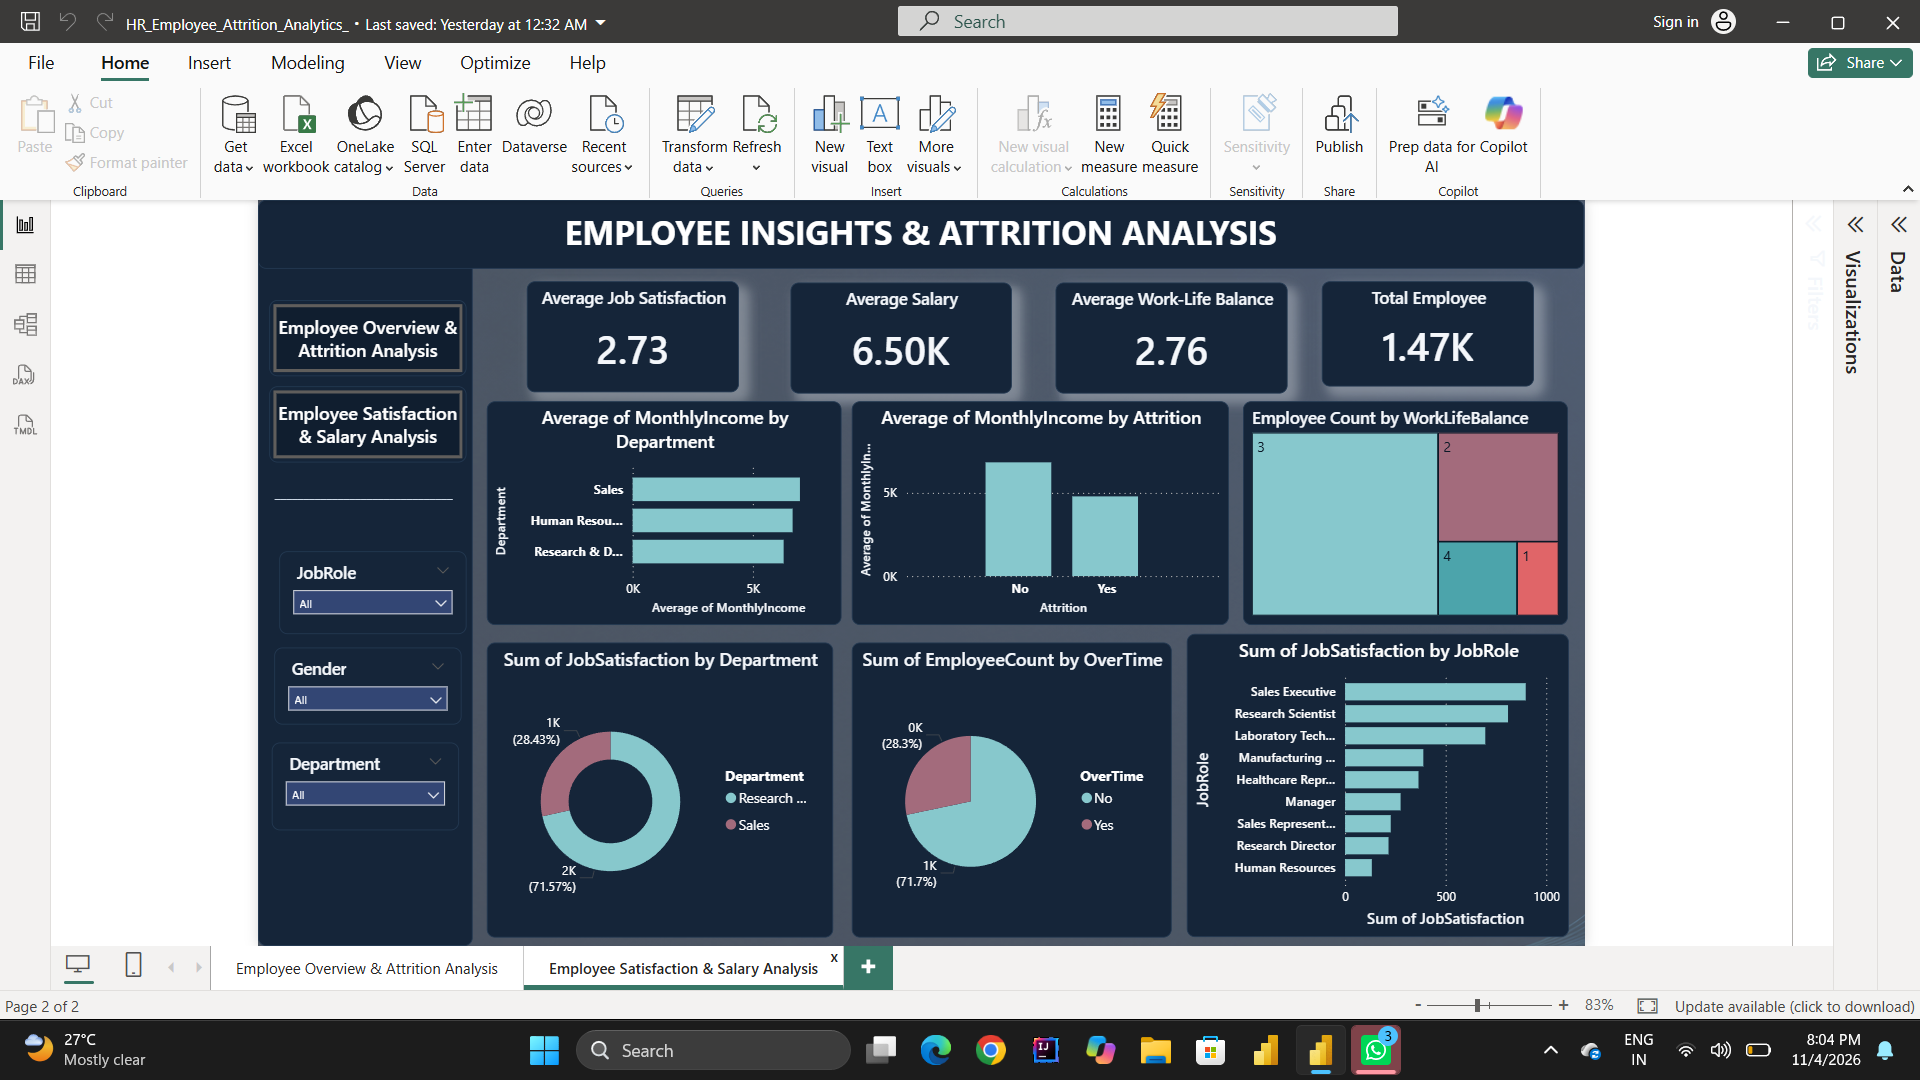

The page's visual inventory and layout, read from the dashboard file:
{"tool":"powerbi","page":{"name":"Employee Satisfaction & Salary Analysis","canvas":[1280,720],"ordinal":1},"visuals":[{"type":"cardVisual","title":"Average Work-Life Balance","fields":{"Data":["Avg(EmployeeData.WorkLifeBalance)"]},"box":[769.7,79.6,224.4,107.4],"z":0},{"type":"cardVisual","title":"Total Employee","fields":{"Data":["EmployeeData.Total Employees"]},"box":[1026.7,78.4,205.1,101.3],"z":1000},{"type":"cardVisual","title":"Average Salary","fields":{"Data":["Avg(EmployeeData.MonthlyIncome)"]},"box":[513.9,79.6,213.5,107.4],"z":2000},{"type":"cardVisual","title":"Average Job Satisfaction","fields":{"Data":["Avg(EmployeeData.JobSatisfaction)"]},"box":[259.4,78.4,205.1,107.4],"z":3000},{"type":"donutChart","fields":{"Category":["EmployeeData.Department"],"Y":["Sum(EmployeeData.JobSatisfaction)"]},"box":[220.8,427.1,334.2,284.7],"z":4000},{"type":"clusteredBarChart","fields":{"Category":["EmployeeData.Department"],"Y":["Avg(EmployeeData.MonthlyIncome)"]},"box":[220.8,194.2,342.6,216],"z":5000},{"type":"textbox","box":[0,0,207.5,720.2],"z":6000},{"type":"textbox","box":[0,0,1280,66.2],"z":7000},{"type":"slicer","fields":{"Values":["EmployeeData.JobRole"]},"box":[20.5,339,181,79.6],"z":8000},{"type":"slicer","fields":{"Values":["EmployeeData.Gender"]},"box":[15.7,431.9,181,74.8],"z":9000},{"type":"slicer","fields":{"Values":["EmployeeData.Department"]},"box":[13.3,523.6,181,84.5],"z":10000},{"type":"actionButton","box":[10.9,96.5,190.6,73.6],"z":11000},{"type":"actionButton","box":[10.9,179.8,190.6,73.6],"z":12000},{"type":"pieChart","fields":{"Category":["EmployeeData.OverTime"],"Y":["Sum(EmployeeData.EmployeeCount)"]},"box":[573.1,427.1,308.8,284.7],"z":13000},{"type":"treemap","fields":{"Group":["EmployeeData.WorkLifeBalance"],"Values":["EmployeeData.Employee Count"]},"box":[950.7,194.2,313.7,216],"z":14000},{"type":"clusteredColumnChart","fields":{"Category":["EmployeeData.Attrition"],"Y":["Avg(EmployeeData.MonthlyIncome)"]},"box":[573.1,194.2,364.3,216],"z":15000},{"type":"clusteredBarChart","fields":{"Category":["EmployeeData.JobRole"],"Y":["Sum(EmployeeData.JobSatisfaction)"]},"box":[896.4,418.6,369.2,293.2],"z":16000}]}

Visuals, with their boxes on the page's 1280x720 design canvas (x1, y1, x2, y2). These are canvas units, not pixel positions in the 1920x1080 screenshot, which may show the page scaled, cropped or inside an application window:
"Average Work-Life Balance" cardVisual: {"left": 770, "top": 80, "right": 994, "bottom": 187}
"Total Employee" cardVisual: {"left": 1027, "top": 78, "right": 1232, "bottom": 180}
"Average Salary" cardVisual: {"left": 514, "top": 80, "right": 727, "bottom": 187}
"Average Job Satisfaction" cardVisual: {"left": 259, "top": 78, "right": 464, "bottom": 186}
donutChart - EmployeeData.Department x Sum(EmployeeData.JobSatisfaction): {"left": 221, "top": 427, "right": 555, "bottom": 712}
clusteredBarChart - EmployeeData.Department x Avg(EmployeeData.MonthlyIncome): {"left": 221, "top": 194, "right": 563, "bottom": 410}
textbox: {"left": 0, "top": 0, "right": 208, "bottom": 720}
textbox: {"left": 0, "top": 0, "right": 1280, "bottom": 66}
slicer - EmployeeData.JobRole: {"left": 20, "top": 339, "right": 202, "bottom": 419}
slicer - EmployeeData.Gender: {"left": 16, "top": 432, "right": 197, "bottom": 507}
slicer - EmployeeData.Department: {"left": 13, "top": 524, "right": 194, "bottom": 608}
actionButton: {"left": 11, "top": 96, "right": 202, "bottom": 170}
actionButton: {"left": 11, "top": 180, "right": 202, "bottom": 253}
pieChart - EmployeeData.OverTime x Sum(EmployeeData.EmployeeCount): {"left": 573, "top": 427, "right": 882, "bottom": 712}
treemap - EmployeeData.WorkLifeBalance x EmployeeData.Employee Count: {"left": 951, "top": 194, "right": 1264, "bottom": 410}
clusteredColumnChart - EmployeeData.Attrition x Avg(EmployeeData.MonthlyIncome): {"left": 573, "top": 194, "right": 937, "bottom": 410}
clusteredBarChart - EmployeeData.JobRole x Sum(EmployeeData.JobSatisfaction): {"left": 896, "top": 419, "right": 1266, "bottom": 712}
